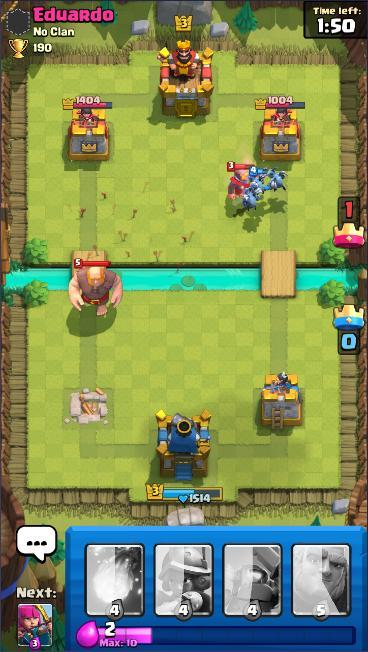ally_minion: (261, 164, 292, 195), (246, 163, 275, 195), (238, 186, 265, 216)
enemy_giant: (66, 256, 124, 321)
enemy_knight: (225, 159, 257, 201)
